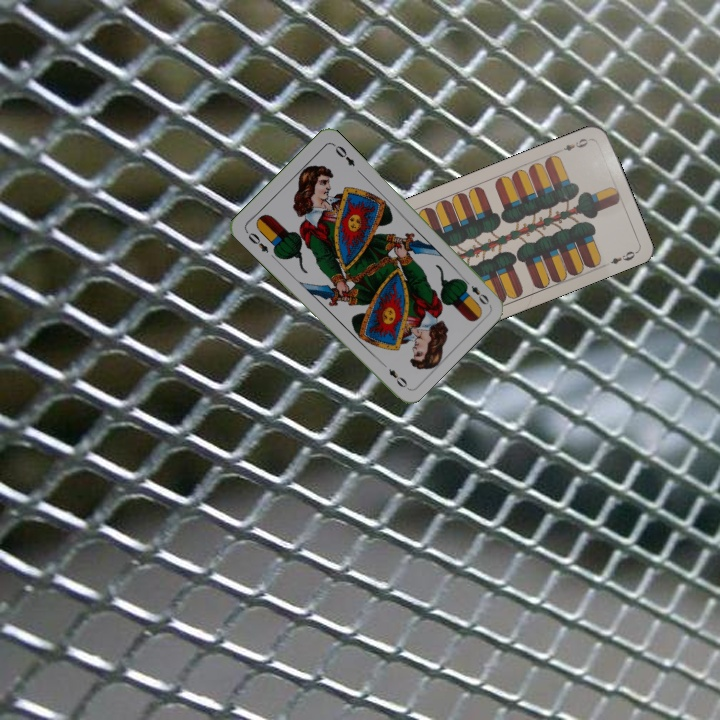E9: (559, 134, 594, 154)
EO: (459, 275, 492, 307), (242, 227, 271, 255)
